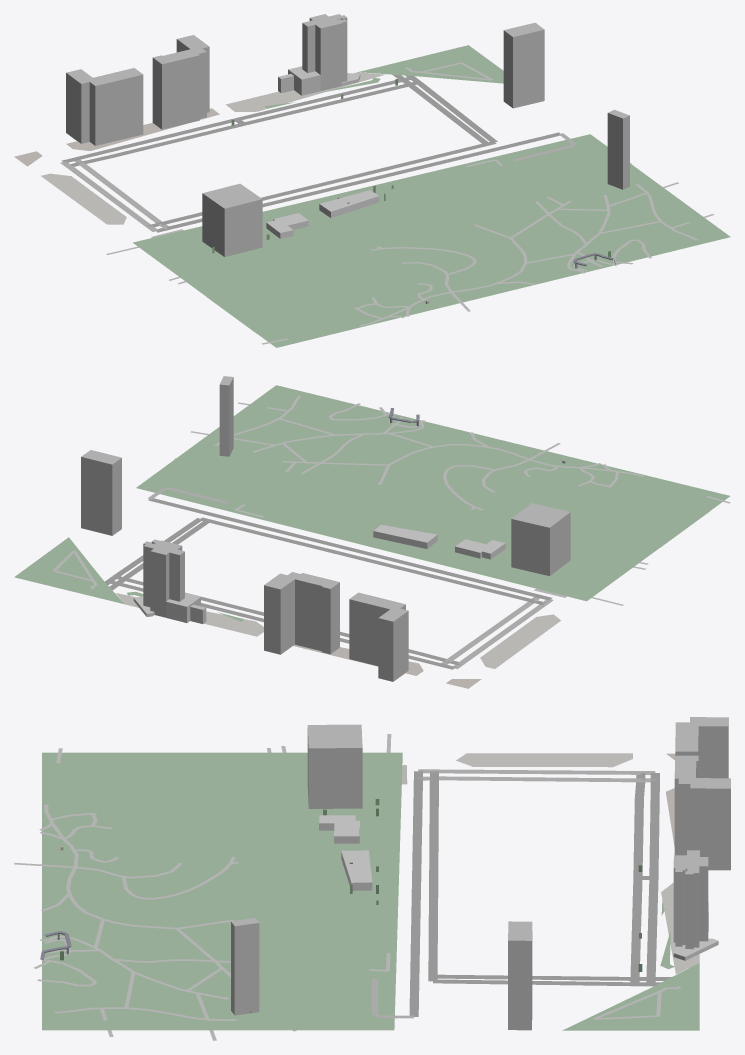
3 views of the same model, one above another, from view 1: azimuth 30°, elevation 25°; view 2: azimuth 150°, elevation 25°; view 3: azimuth 270°, elevation 25° (orthographic). The views are drawn at different scales.
Size of the model in its own units: 553 by 76.12 by 545.
